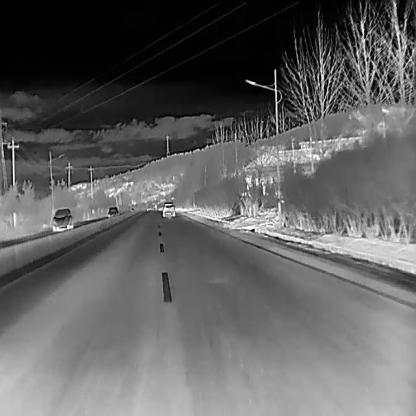car: (52, 208, 73, 233), (162, 201, 174, 217), (107, 205, 118, 217)
